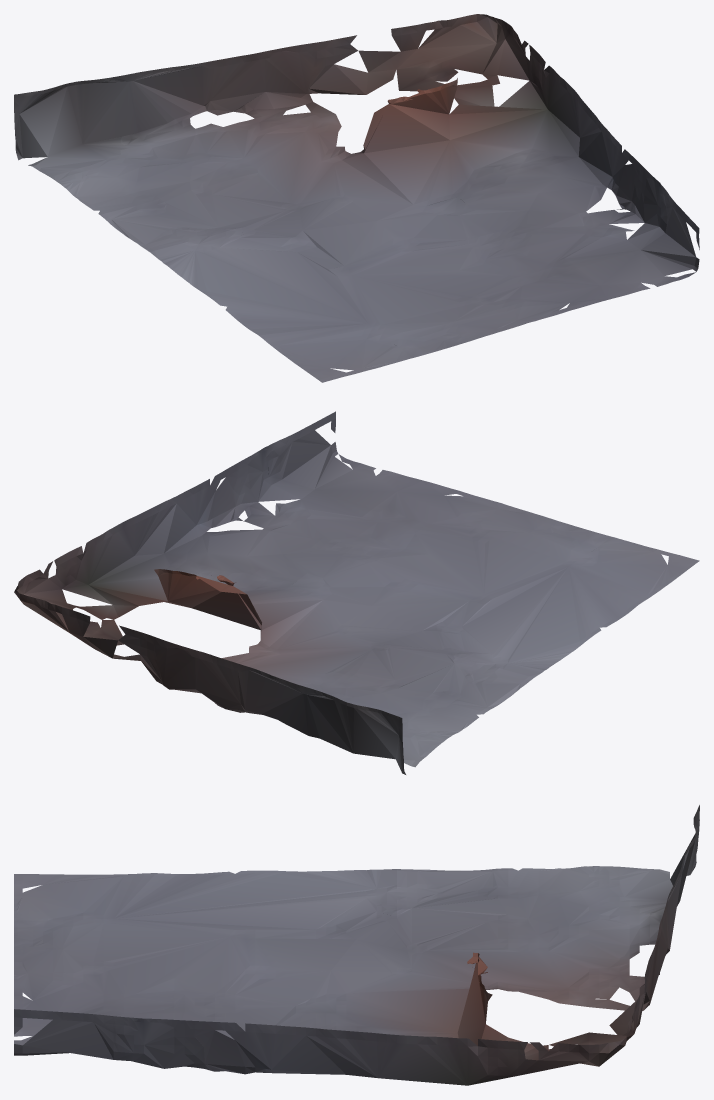
File: coarse.glb
3 renders of one model, top to bottom at view 1: azimuth 30°, elevation 25°; view 2: azimuth 150°, elevation 25°; view 3: azimuth 270°, elevation 25°, orthographic. The views are drawn at different scales.
Bounding box in the file's own units: 0.9978 × 0.1361 × 1.2.
